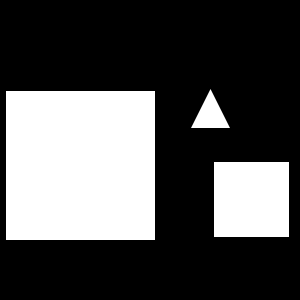circle: (6, 91, 155, 240), (214, 162, 289, 237)
triangle: (191, 89, 230, 128)
